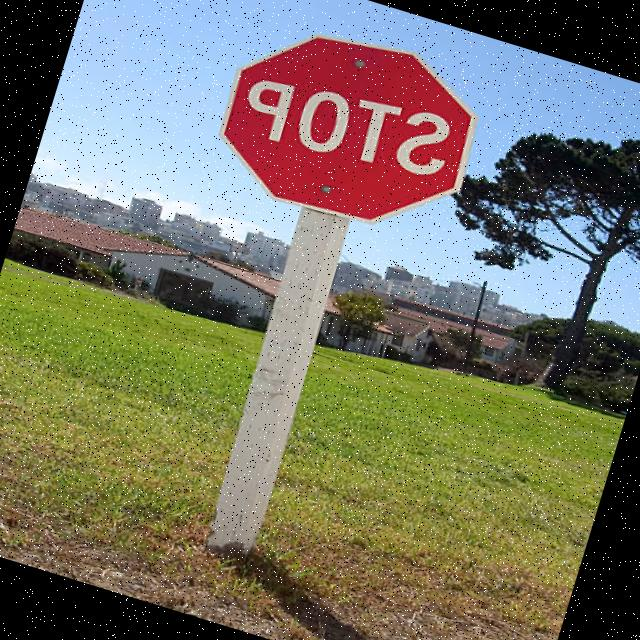stop: (183, 0, 488, 253)
